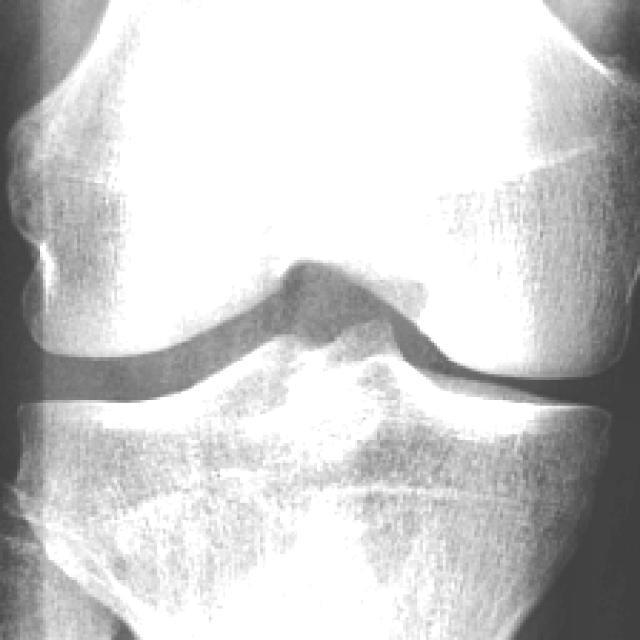femur: (8, 0, 640, 379)
tibia: (17, 321, 609, 640)
